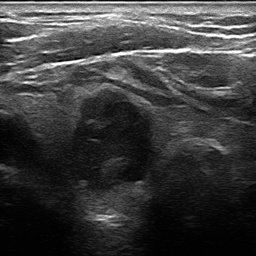mass: (72, 91, 148, 189)
